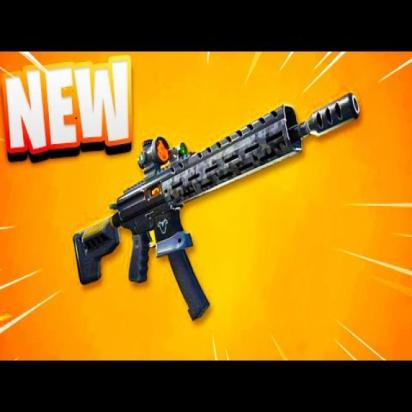Gun: (72, 84, 364, 321)
